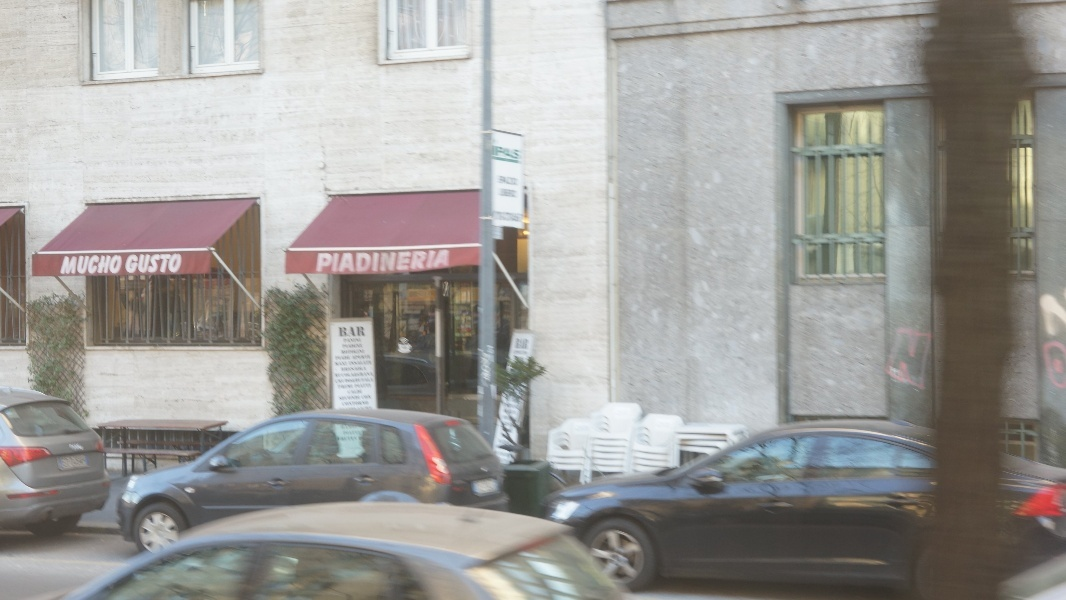text: (481, 345, 496, 384), (321, 249, 336, 274), (337, 249, 352, 274), (353, 249, 368, 274), (369, 249, 384, 274), (385, 249, 400, 274), (401, 249, 416, 274), (417, 249, 432, 274), (433, 249, 448, 274), (65, 254, 80, 275), (81, 254, 96, 275), (97, 254, 112, 275), (129, 253, 144, 274), (145, 253, 160, 274), (161, 253, 176, 274), (497, 144, 512, 161), (497, 210, 512, 225), (113, 254, 123, 275), (497, 174, 512, 187), (515, 337, 528, 351), (513, 210, 525, 225), (177, 253, 185, 274), (338, 326, 352, 337), (500, 188, 512, 200), (353, 326, 365, 337), (337, 377, 352, 385), (353, 377, 368, 385), (353, 394, 368, 402), (513, 144, 520, 161), (338, 394, 352, 402), (353, 400, 369, 407), (337, 360, 352, 367), (353, 360, 368, 367), (353, 366, 368, 373), (337, 371, 352, 378), (353, 371, 368, 378), (337, 383, 352, 390), (353, 383, 368, 390), (337, 355, 352, 361), (353, 355, 368, 361), (340, 366, 352, 373), (353, 389, 365, 396), (513, 174, 519, 187), (353, 349, 366, 355), (341, 343, 352, 350), (353, 343, 364, 350), (341, 400, 352, 407), (317, 249, 320, 274), (353, 430, 363, 437), (492, 144, 496, 161), (341, 349, 352, 355), (343, 337, 352, 344), (353, 337, 362, 344), (343, 430, 352, 437), (513, 188, 518, 200), (492, 210, 496, 225), (449, 249, 451, 274), (369, 371, 376, 378), (369, 377, 375, 385), (346, 389, 352, 396), (369, 394, 373, 402), (369, 360, 373, 367), (369, 383, 373, 390), (333, 377, 336, 385), (127, 253, 128, 274), (369, 355, 372, 361), (334, 360, 336, 367), (334, 371, 336, 378), (335, 355, 336, 361)
